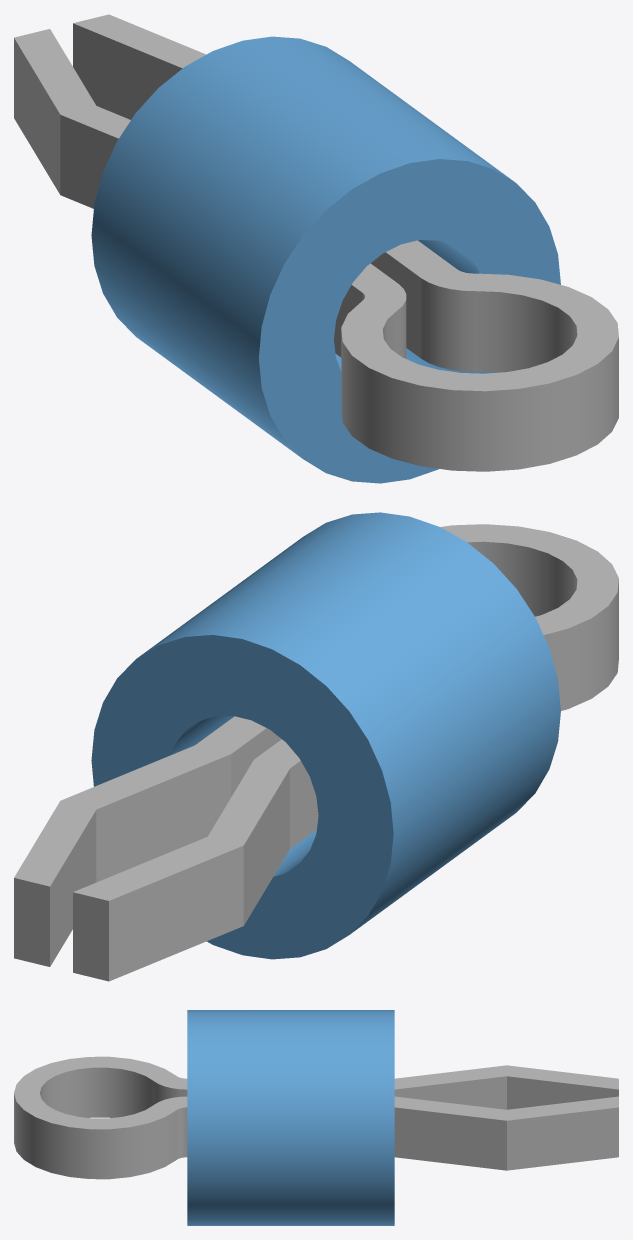
File: TestPoint_Keystone_5005-5009_Compact.glb
3 renders of one model, top to bottom at view 1: azimuth 30°, elevation 25°; view 2: azimuth 150°, elevation 25°; view 3: azimuth 270°, elevation 25°, orthographic. The views are drawn at different scales.
Visible parts, largest first — view 1: Shape_IndexedFaceSet, Shape_IndexedFaceSet.003, Shape_IndexedFaceSet.022, Shape_IndexedFaceSet.021, Shape_IndexedFaceSet.024, Shape_IndexedFaceSet.008, Shape_IndexedFaceSet.020, Shape_IndexedFaceSet.039, Shape_IndexedFaceSet.034, Shape_IndexedFaceSet.037, Shape_IndexedFaceSet.005, Shape_IndexedFaceSet.016 (+7 smaller); view 2: Shape_IndexedFaceSet, Shape_IndexedFaceSet.002, Shape_IndexedFaceSet.039, Shape_IndexedFaceSet.012, Shape_IndexedFaceSet.021, Shape_IndexedFaceSet.022, Shape_IndexedFaceSet.024, Shape_IndexedFaceSet.034, Shape_IndexedFaceSet.037, Shape_IndexedFaceSet.009, Shape_IndexedFaceSet.008, Shape_IndexedFaceSet.033 (+8 smaller); view 3: Shape_IndexedFaceSet, Shape_IndexedFaceSet.022, Shape_IndexedFaceSet.010, Shape_IndexedFaceSet.006, Shape_IndexedFaceSet.024, Shape_IndexedFaceSet.021, Shape_IndexedFaceSet.036, Shape_IndexedFaceSet.041, Shape_IndexedFaceSet.033, Shape_IndexedFaceSet.009, Shape_IndexedFaceSet.005, Shape_IndexedFaceSet.037 (+4 smaller).
Part boxes in pixels (<box>): Shape_IndexedFaceSet: <box>91,36,514,457</box>; Shape_IndexedFaceSet.003: <box>258,159,560,483</box>; Shape_IndexedFaceSet.022: <box>341,331,618,471</box>; Shape_IndexedFaceSet.021: <box>341,273,618,391</box>; Shape_IndexedFaceSet.024: <box>382,291,577,372</box>; Shape_IndexedFaceSet.008: <box>73,23,182,119</box>; Shape_IndexedFaceSet.020: <box>421,278,476,371</box>; Shape_IndexedFaceSet.039: <box>14,38,60,194</box>; Shape_IndexedFaceSet.034: <box>60,115,118,208</box>; Shape_IndexedFaceSet.037: <box>14,29,96,114</box>; Shape_IndexedFaceSet.005: <box>73,14,205,68</box>; Shape_IndexedFaceSet.016: <box>370,252,421,358</box>; Shape_IndexedFaceSet: <box>138,512,560,934</box>; Shape_IndexedFaceSet.002: <box>91,635,393,959</box>; Shape_IndexedFaceSet.039: <box>109,845,243,981</box>; Shape_IndexedFaceSet.012: <box>96,754,230,882</box>; Shape_IndexedFaceSet.021: <box>440,524,618,634</box>; Shape_IndexedFaceSet.022: <box>543,580,618,710</box>; Shape_IndexedFaceSet.024: <box>467,541,577,616</box>; Shape_IndexedFaceSet.034: <box>243,769,289,925</box>; Shape_IndexedFaceSet.037: <box>73,836,243,900</box>; Shape_IndexedFaceSet.009: <box>60,745,230,809</box>; Shape_IndexedFaceSet.008: <box>50,810,96,966</box>; Shape_IndexedFaceSet.033: <box>208,759,289,845</box>; Shape_IndexedFaceSet: <box>187,1010,394,1225</box>; Shape_IndexedFaceSet.022: <box>14,1094,176,1179</box>; Shape_IndexedFaceSet.010: <box>394,1107,506,1170</box>; Shape_IndexedFaceSet.006: <box>507,1107,618,1170</box>; Shape_IndexedFaceSet.024: <box>40,1067,153,1117</box>; Shape_IndexedFaceSet.021: <box>14,1056,176,1129</box>; Shape_IndexedFaceSet.036: <box>394,1076,506,1109</box>; Shape_IndexedFaceSet.041: <box>507,1076,618,1109</box>; Shape_IndexedFaceSet.033: <box>394,1065,506,1089</box>; Shape_IndexedFaceSet.009: <box>394,1096,506,1120</box>; Shape_IndexedFaceSet.005: <box>507,1096,618,1120</box>; Shape_IndexedFaceSet.037: <box>507,1065,618,1089</box>.
Bounding box in the file's own units: 1.25 × 1.25 × 3.5.
